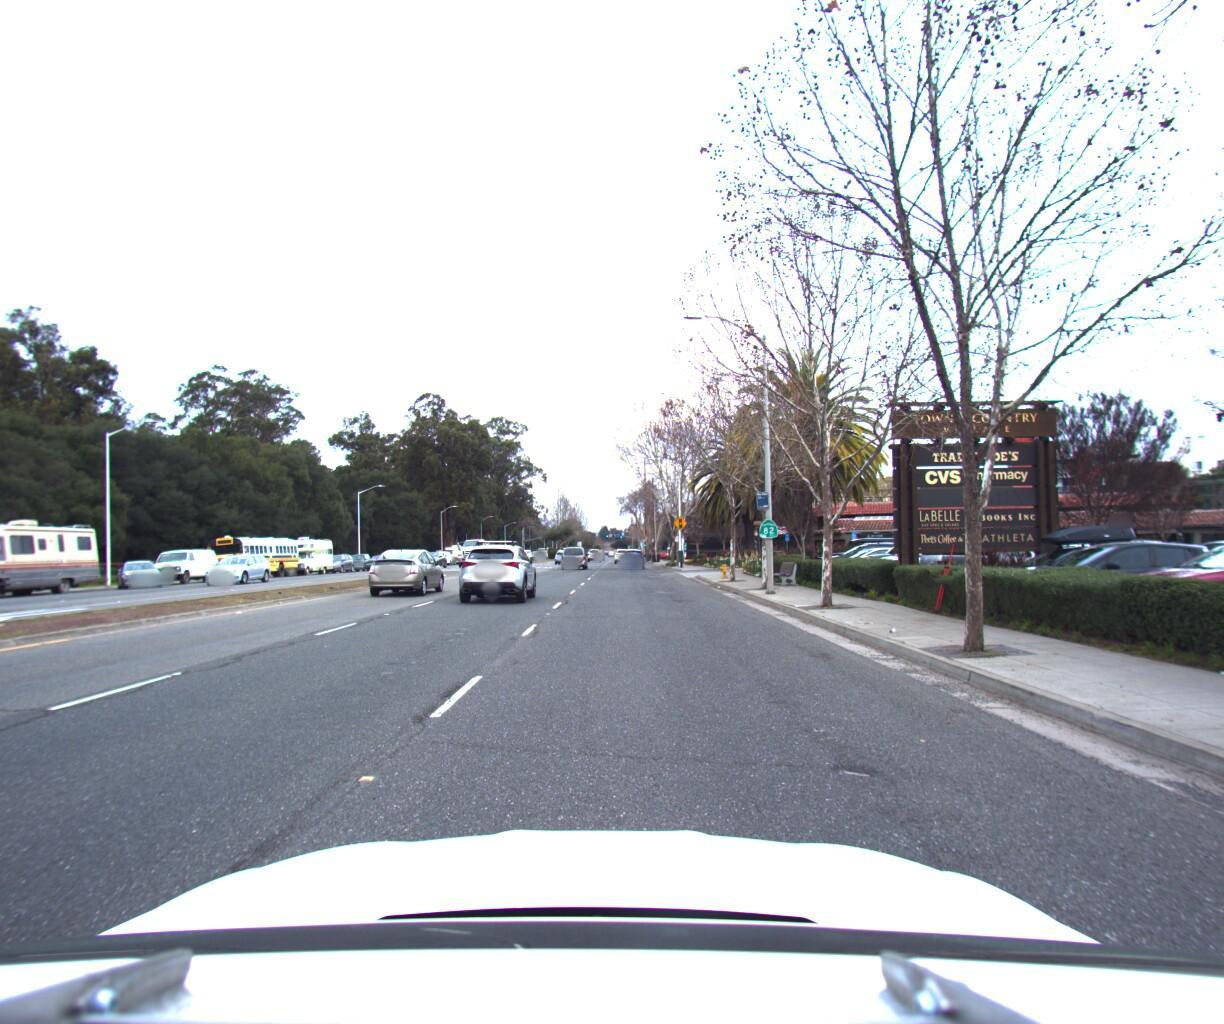bus: (192, 524, 306, 577)
car: (987, 515, 1178, 599), (1014, 528, 1224, 590), (910, 520, 1069, 586), (1113, 519, 1224, 607), (454, 530, 540, 596), (357, 540, 448, 590), (814, 529, 918, 563), (1197, 516, 1224, 635), (829, 535, 931, 564), (199, 545, 276, 579), (117, 548, 167, 581), (319, 544, 361, 566), (344, 544, 382, 564), (559, 536, 587, 560), (620, 538, 644, 559)
other_vehicle: (276, 528, 339, 567)
truck: (0, 504, 113, 602), (146, 538, 232, 580), (457, 530, 502, 560)
